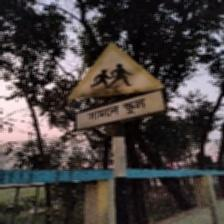School-in-front: (67, 42, 167, 133)
